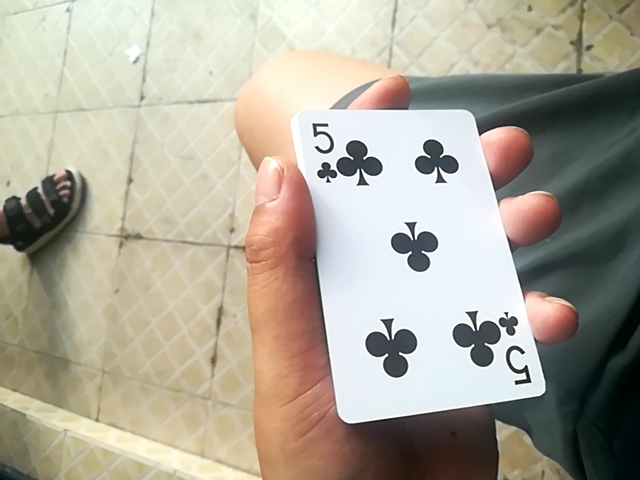mh 5: (303, 107, 545, 430)
